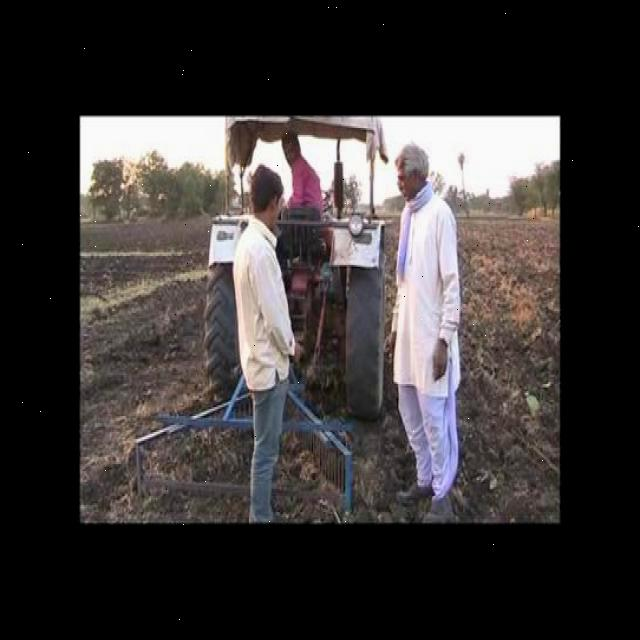Tratores - v5 YOLO V8L 2024-11-13: (203, 117, 391, 420)
